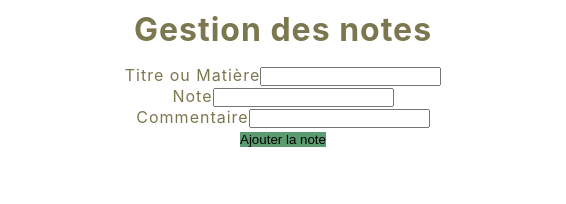
Test: Should test adding new rates › devrait pas soumettre le formulaire s'il manque un ou plusieurs champs
Step 1. Type "Titre de la note" into the field named "title" → (351, 77), box [260,67,441,86]
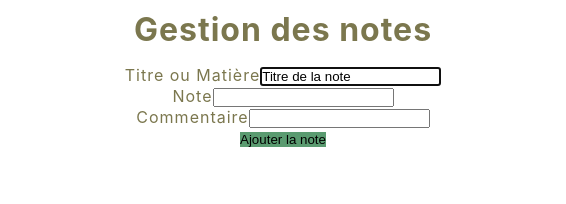
Step 2. Type "Ceci est un commentaire de test" into the field named "comment" → (340, 119), box [249,109,430,128]
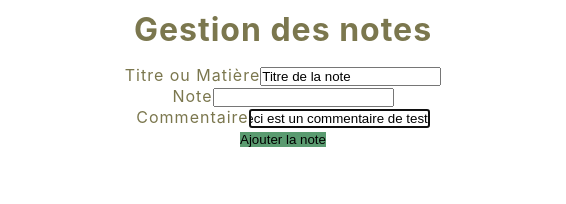
Step 3. Click the submit button → (283, 140), box [240,132,326,147]
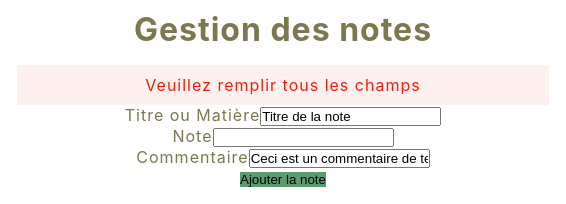
Result: the text "Veuillez remplir tous les champs" is shown at [17,65,549,105]
